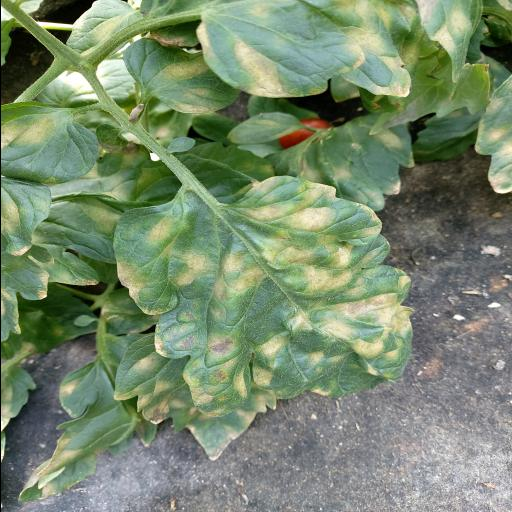Leaf Mold: (112, 175, 414, 416), (196, 0, 416, 98), (0, 100, 98, 184)
